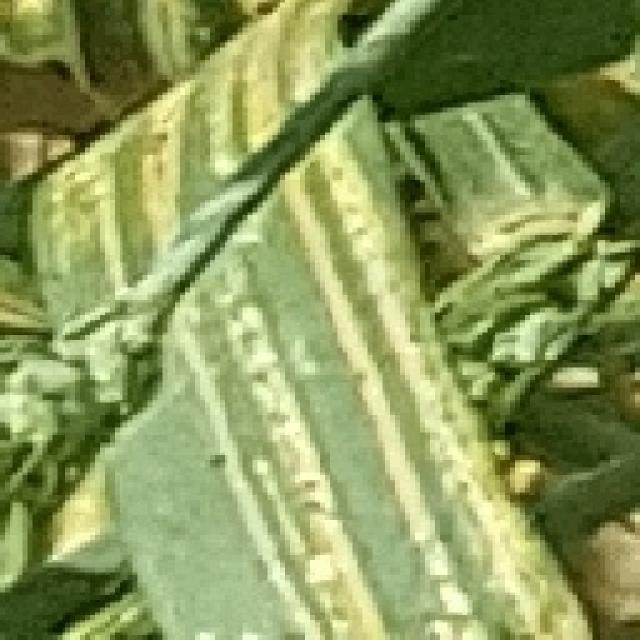Healthy Wheat: (3, 0, 635, 635)
